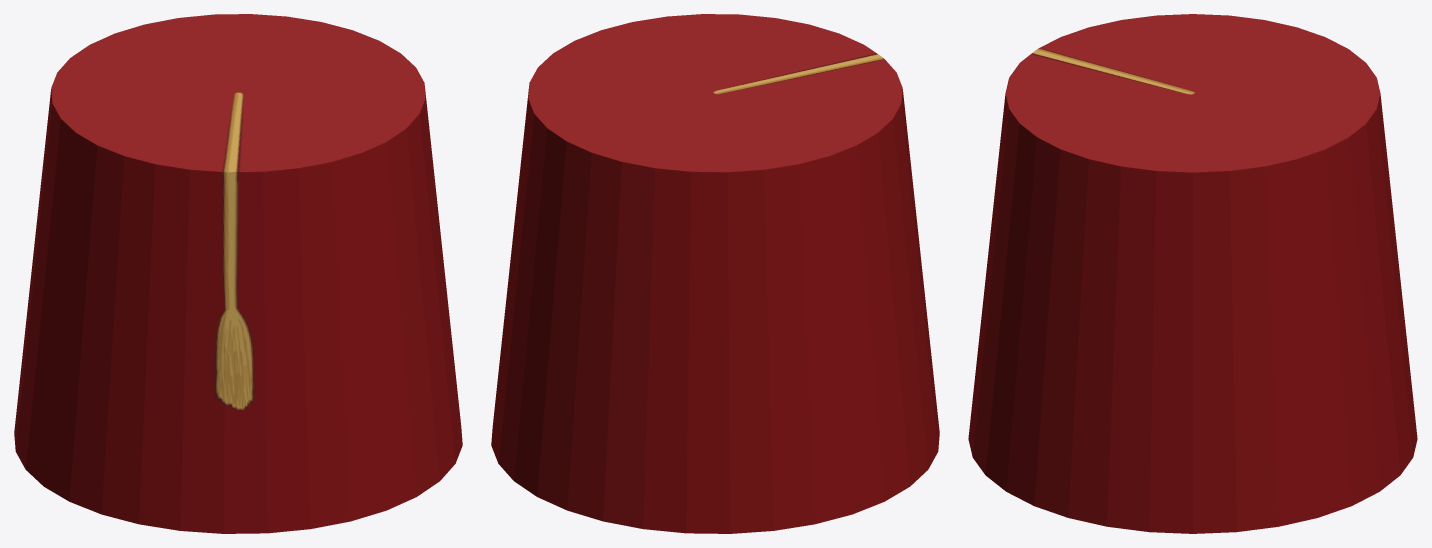
The model's file is hat3.glb.
3 views of the same model, side by side, from view 1: azimuth 30°, elevation 25°; view 2: azimuth 150°, elevation 25°; view 3: azimuth 270°, elevation 25° (orthographic).
Parts seen in each view (by area): view 1: fez; view 2: fez; view 3: fez.
Part boxes in pixels (left/top/right/bottom): fez: left=14, top=14, right=462, bottom=533; fez: left=491, top=14, right=939, bottom=533; fez: left=968, top=14, right=1417, bottom=533.
Size of the model in its own units: 0.1554 by 0.132 by 0.1554.
Materials: 1 (1 with a texture image).
